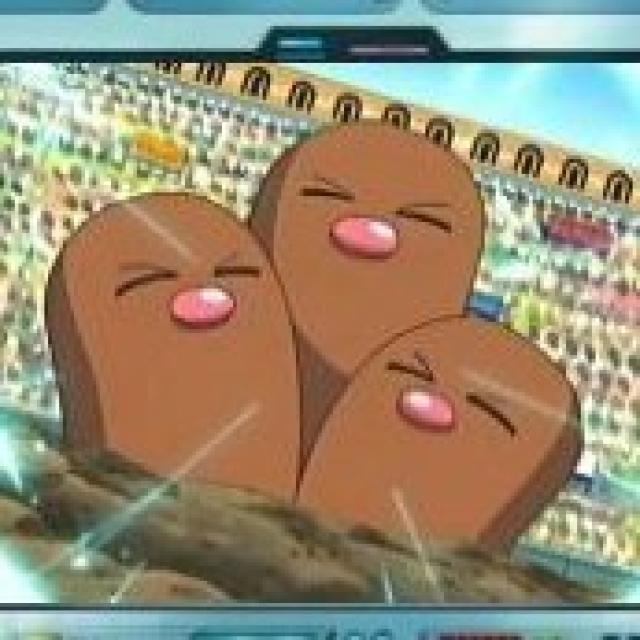Dugtrio: (48, 112, 592, 562)
